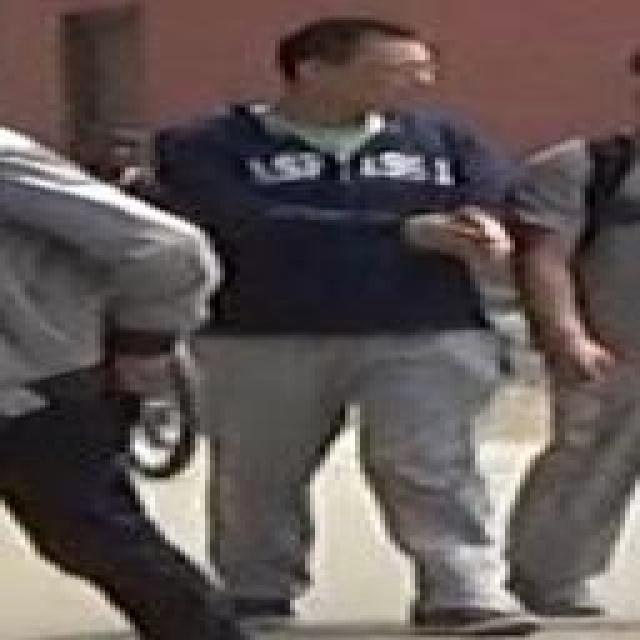adult: (144, 15, 547, 640), (0, 120, 230, 640), (522, 47, 639, 640)
